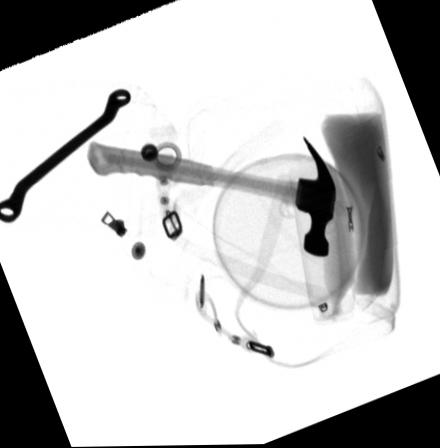Hammer: (85, 135, 335, 259)
Wrench: (0, 85, 129, 224)
